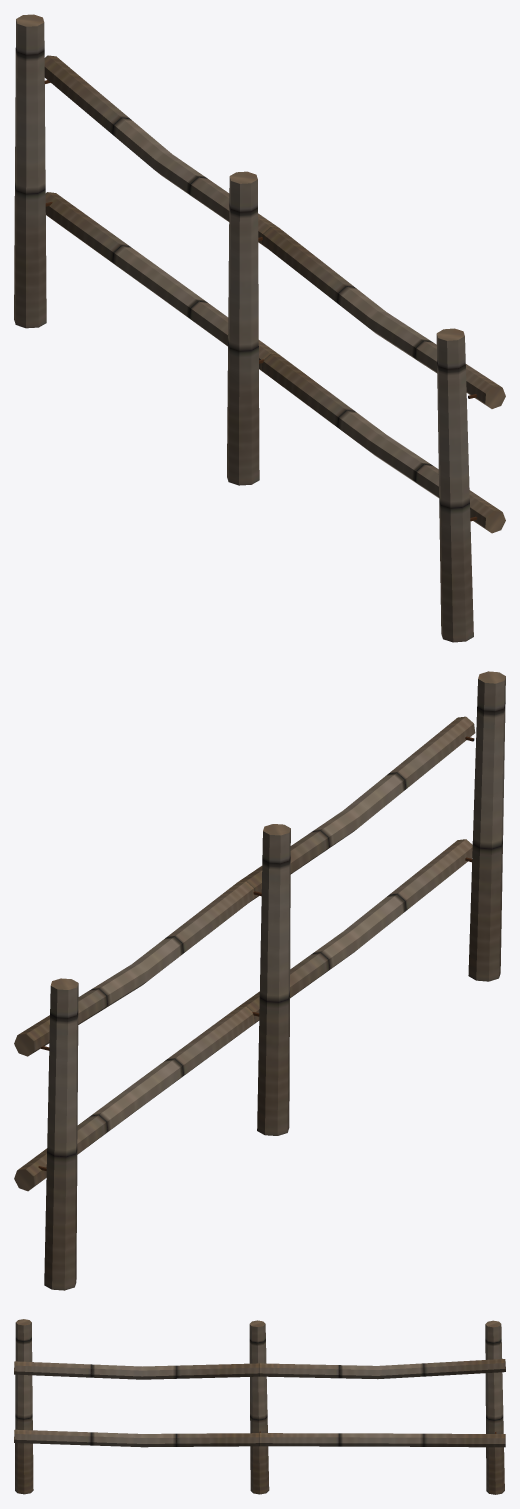
File: v_fence.glb
3 renders of one model, top to bottom at view 1: azimuth 30°, elevation 25°; view 2: azimuth 150°, elevation 25°; view 3: azimuth 270°, elevation 25°, orthographic. The views are drawn at different scales.
Parts seen in each view (by area): view 1: v_fence; view 2: v_fence; view 3: v_fence.
Boxes of the visible parts, <box> form: v_fence: <box>14,14,505,642</box>; v_fence: <box>14,671,505,1290</box>; v_fence: <box>14,1319,505,1494</box>.
Bounding box in the file's own units: 0.3029 × 1.48 × 3.97.
Materials: 1 (1 with a texture image).
